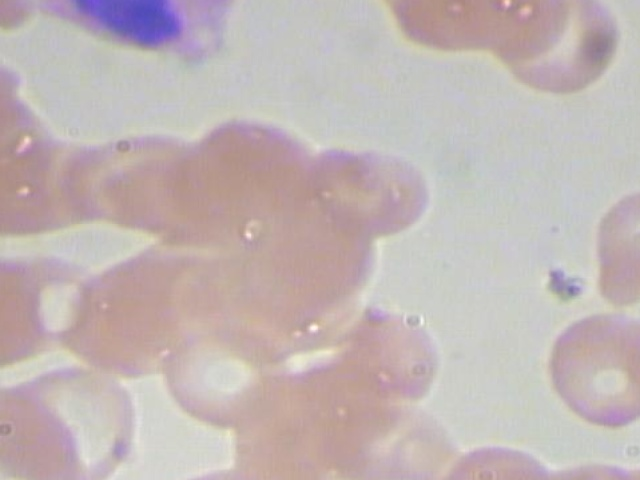Platelets: (24, 0, 249, 89)
RBC: (147, 311, 301, 433), (473, 0, 636, 103), (292, 132, 437, 242), (538, 302, 640, 434), (346, 300, 451, 409), (0, 376, 101, 480), (0, 245, 74, 373), (581, 178, 640, 311)
